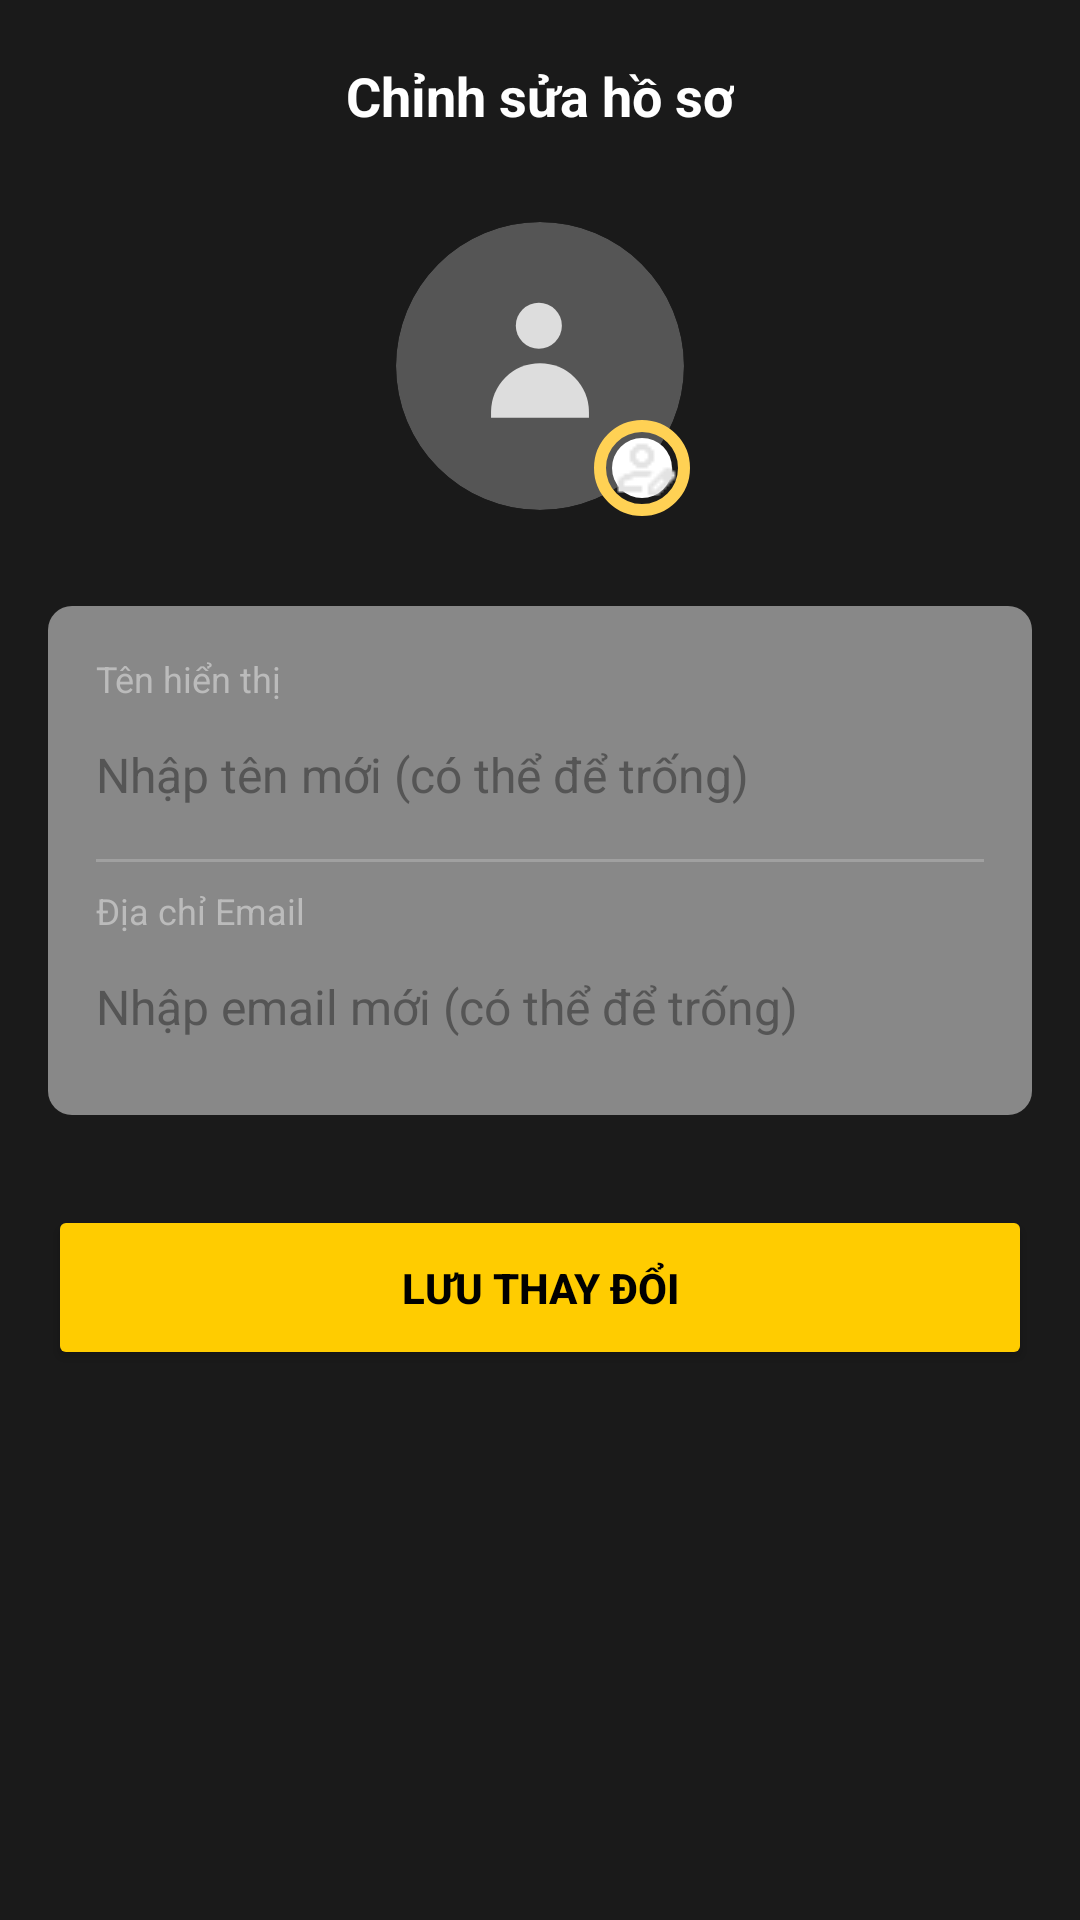

Point at icon controls on the screen. Image size 1080*1920, points as [x,y].
person edit: [642,468]
